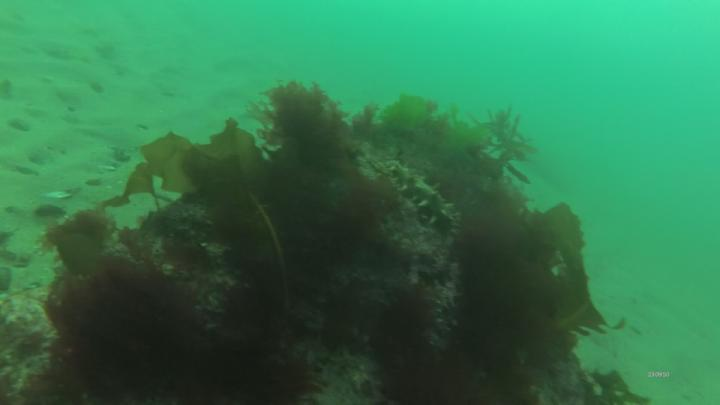holothurian: (388, 158, 461, 231)
waterweeds: (1, 96, 596, 405)
